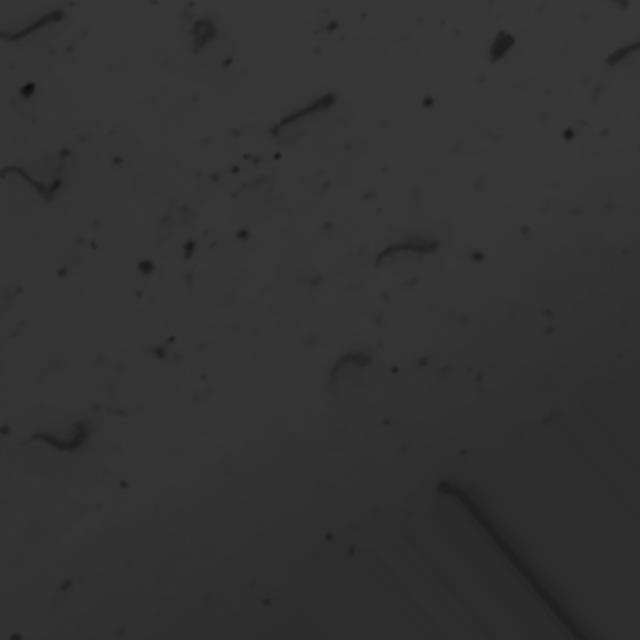larvas: (276, 92, 339, 137), (0, 5, 62, 46), (4, 165, 63, 199), (378, 240, 438, 268), (334, 344, 369, 382), (31, 427, 90, 449), (607, 35, 640, 68), (190, 13, 213, 44)
